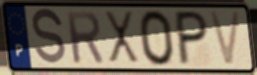O: (137, 8, 177, 68)
P: (175, 9, 210, 68)
R: (64, 9, 106, 65)
S: (30, 6, 68, 69)
V: (207, 10, 244, 68)
X: (102, 9, 141, 67)
